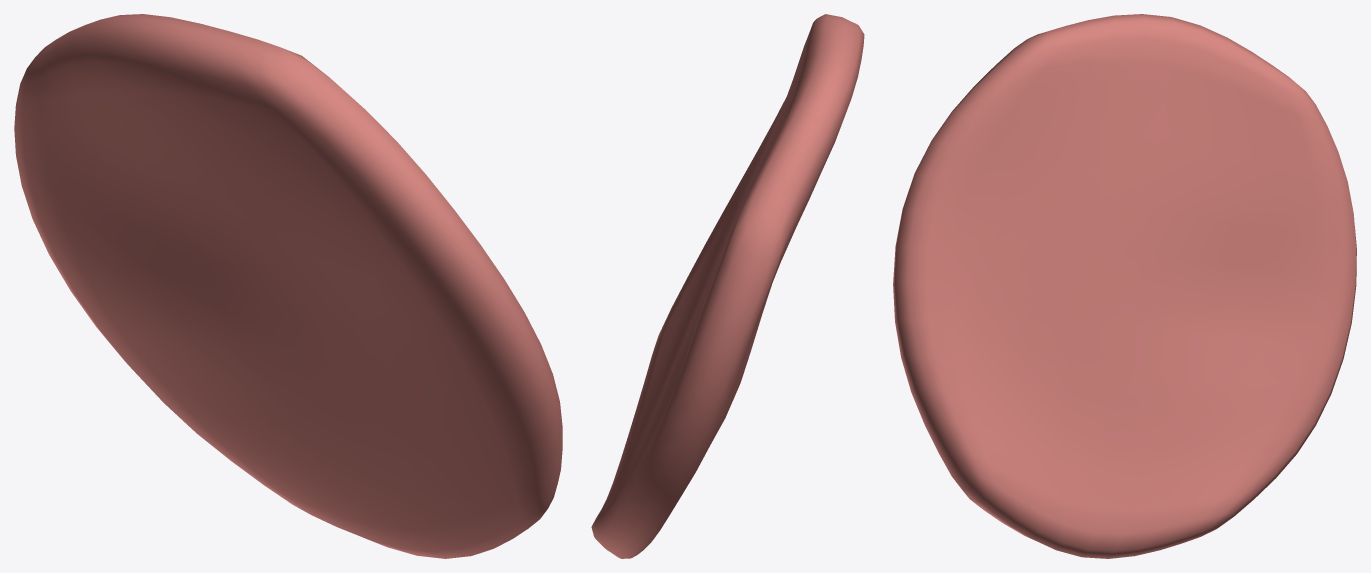
3 renders of one model, left to right at view 1: azimuth 30°, elevation 25°; view 2: azimuth 150°, elevation 25°; view 3: azimuth 270°, elevation 25°, orthographic. The views are drawn at different scales.
Parts seen in each view (by area): view 1: ZA_01a488c6e5154420; view 2: ZA_01a488c6e5154420; view 3: ZA_01a488c6e5154420.
Part boxes in pixels (x1,y1,x2,y2): ZA_01a488c6e5154420: (14,14,562,558); ZA_01a488c6e5154420: (591,14,864,558); ZA_01a488c6e5154420: (893,14,1356,558).
Bounding box in the file's own units: 0.0125 × 0.0206 × 0.019.
